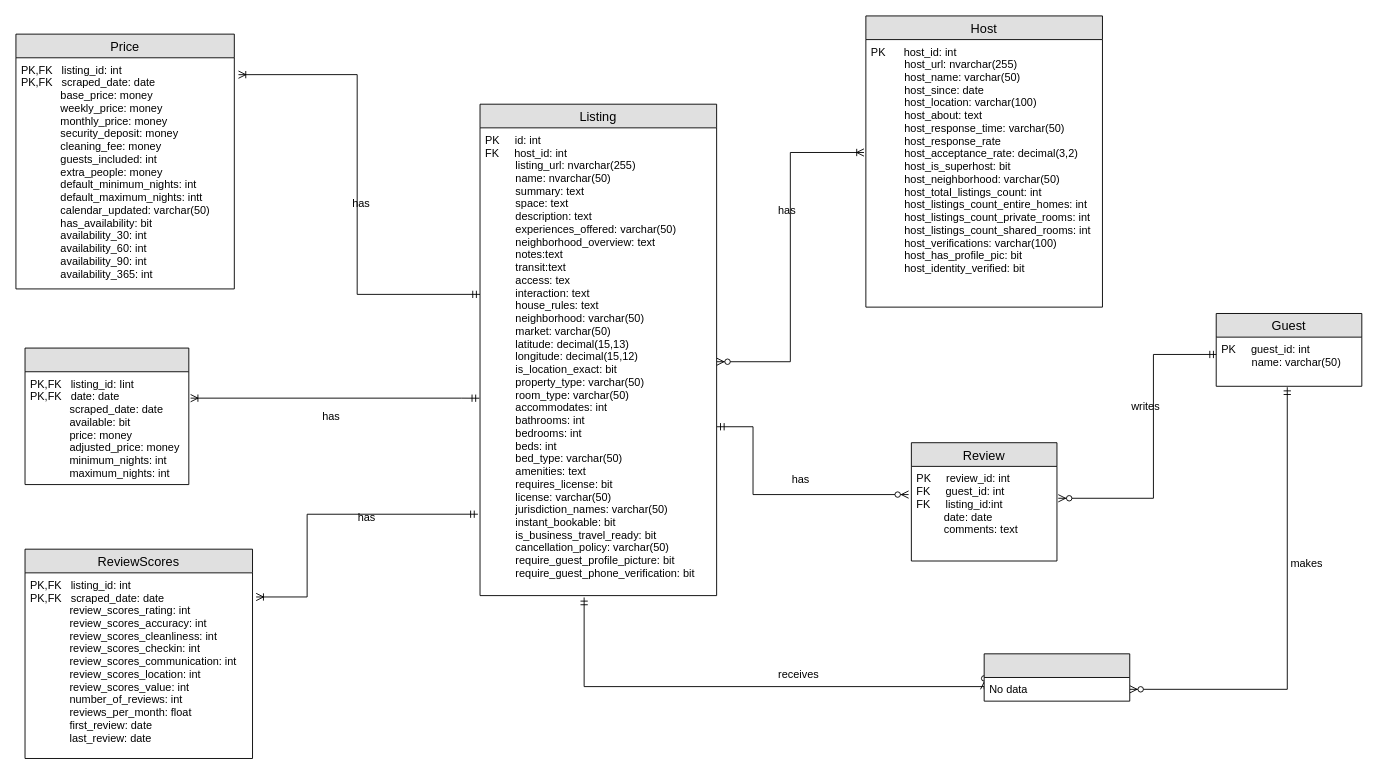
The diagram is 1378 pixels wide and 777 high, and some of its shapes have lost their labels. The shapes that lost their labels are listed below. From the top down, each one's box as (x1, y1, x2, y2) in pixels, then its label:
(24, 347, 189, 485): Calendar
(983, 653, 1130, 701): Reservation
